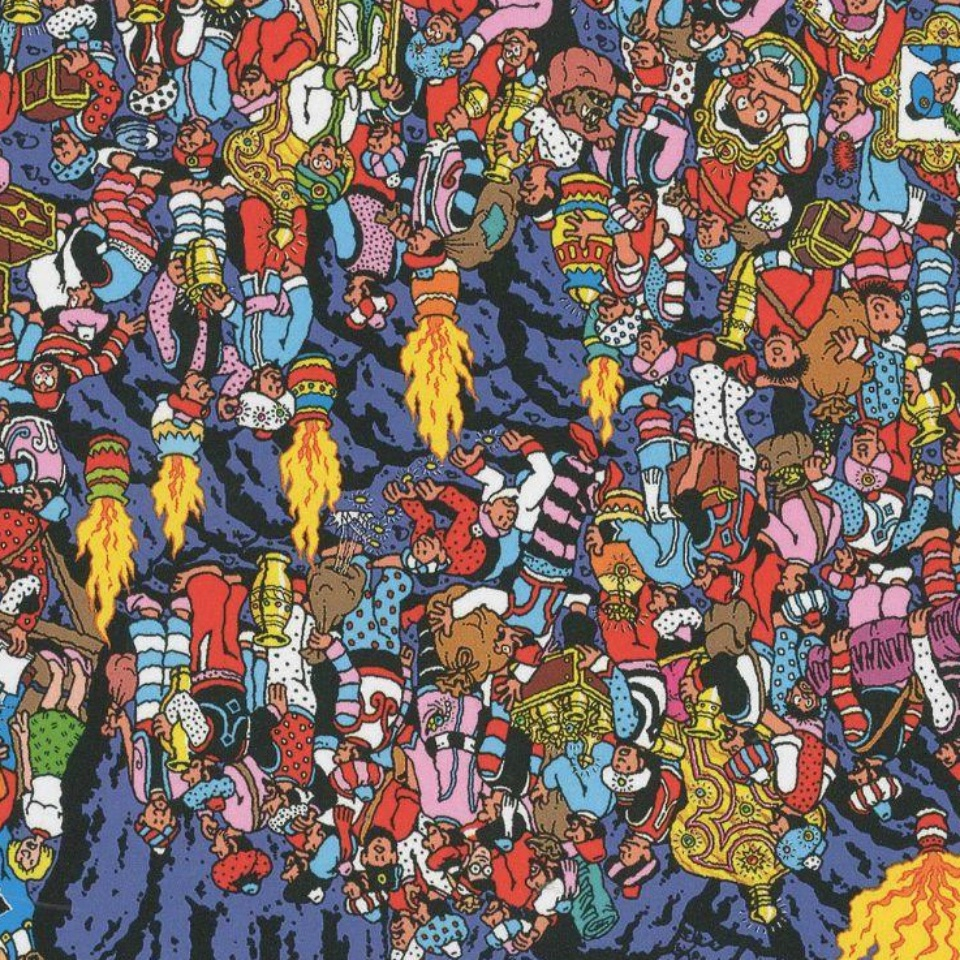waldo: (454, 848, 506, 900)
